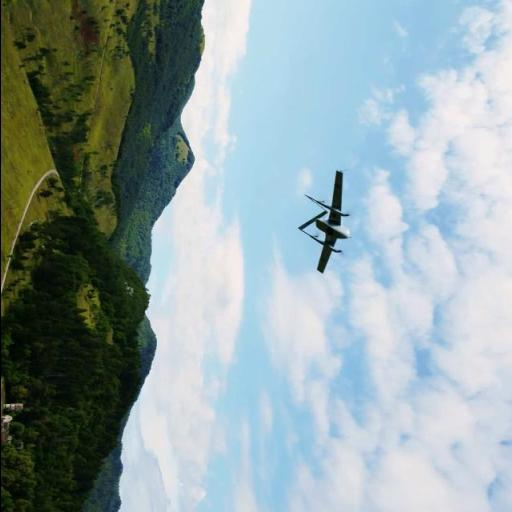uav: (296, 166, 354, 276)
